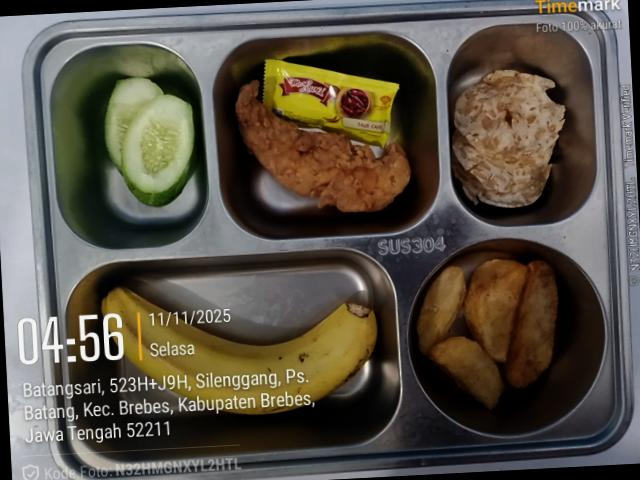ayam: (235, 81, 411, 212)
buah: (102, 288, 377, 414)
kentang: (416, 260, 558, 409)
sayur: (106, 88, 194, 206)
tempe: (452, 70, 565, 208)
